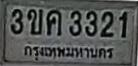1: (118, 11, 126, 37)
2: (100, 11, 114, 38)
3: (68, 10, 82, 36), (84, 10, 97, 37), (10, 8, 23, 34)
A02: (26, 8, 43, 36)
A04: (46, 9, 62, 36)
BKK: (22, 42, 115, 61)
